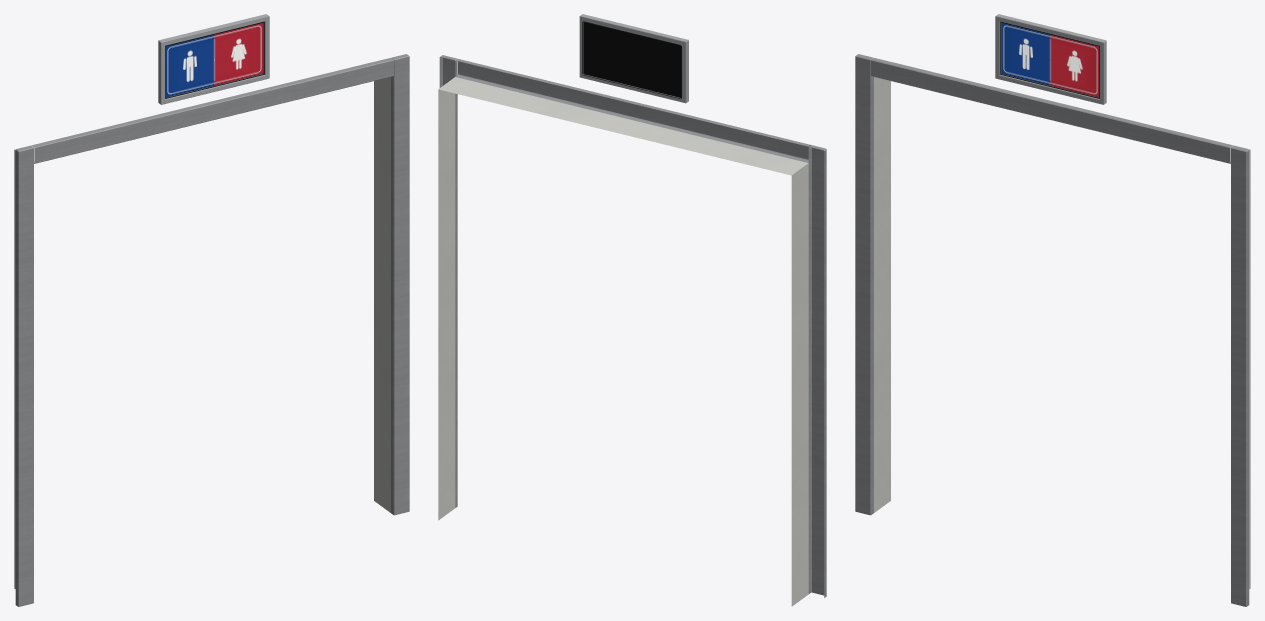
Rendered from gteki_toilet_entrance_pair.glb.
The picture shows the model from 3 angles, left to right: view 1: azimuth 30°, elevation 25°; view 2: azimuth 150°, elevation 25°; view 3: azimuth 330°, elevation 25°; orthographic projection.
Visible parts, largest first — view 1: VIS_trim, VIS_reveal, VIS_faces, VIS_frame; view 2: VIS_reveal, VIS_trim, VIS_frame; view 3: VIS_trim, VIS_reveal, VIS_faces, VIS_frame.
Part boxes in pixels (<box>): VIS_trim: <box>15,54,409,606</box>; VIS_reveal: <box>14,62,390,588</box>; VIS_faces: <box>166,23,263,96</box>; VIS_frame: <box>158,14,269,104</box>; VIS_reveal: <box>438,77,808,606</box>; VIS_trim: <box>439,55,826,597</box>; VIS_frame: <box>579,14,688,103</box>; VIS_trim: <box>855,54,1249,606</box>; VIS_reveal: <box>874,62,1250,588</box>; VIS_faces: <box>1001,23,1098,96</box>; VIS_frame: <box>995,14,1106,104</box>.
Size of what is drawn, in the model's own units: 1.96 by 2.54 by 0.185.
5 materials, 3 textured.
